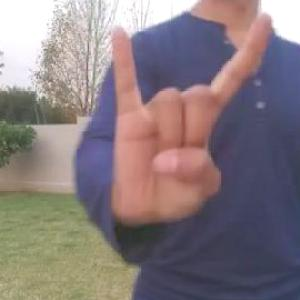takeoff-hand: (104, 5, 276, 224)
